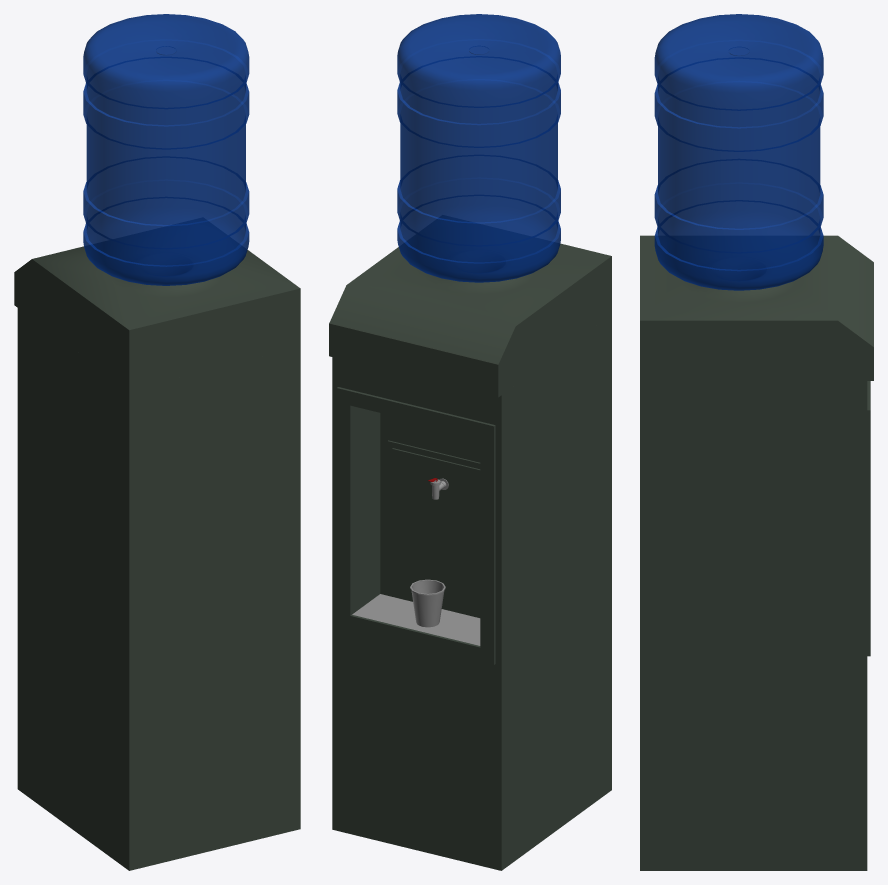
The model's file is Water_Dispenser.fbx.
3 renders of one model, left to right at view 1: azimuth 30°, elevation 25°; view 2: azimuth 150°, elevation 25°; view 3: azimuth 270°, elevation 25°, orthographic. The views are drawn at different scales.
Parts seen in each view (by area): view 1: Dispenser_Body, Dispenser_Bottle, Dispenser_Top; view 2: Dispenser_Body, Dispenser_Bottle, Dispenser_Inside, Dispenser_Top, Dispenser_TapBack, Dispenser_Cup; view 3: Dispenser_Body, Dispenser_Bottle, Dispenser_Top, Dispenser_Inside.
Boxes of the visible parts, bbox=[...] form: Dispenser_Body: bbox=[17, 308, 300, 870]; Dispenser_Bottle: bbox=[83, 14, 249, 285]; Dispenser_Top: bbox=[14, 246, 300, 389]; Dispenser_Body: bbox=[332, 314, 611, 870]; Dispenser_Bottle: bbox=[397, 14, 560, 282]; Dispenser_Inside: bbox=[336, 387, 495, 664]; Dispenser_Top: bbox=[329, 243, 611, 397]; Dispenser_TapBack: bbox=[387, 440, 480, 520]; Dispenser_Cup: bbox=[410, 579, 445, 627]; Dispenser_Body: bbox=[640, 381, 867, 870]; Dispenser_Bottle: bbox=[654, 14, 823, 290]; Dispenser_Top: bbox=[640, 235, 873, 380]; Dispenser_Inside: bbox=[867, 381, 870, 656].
Bounding box in the file's own units: 31 × 134 × 36.
